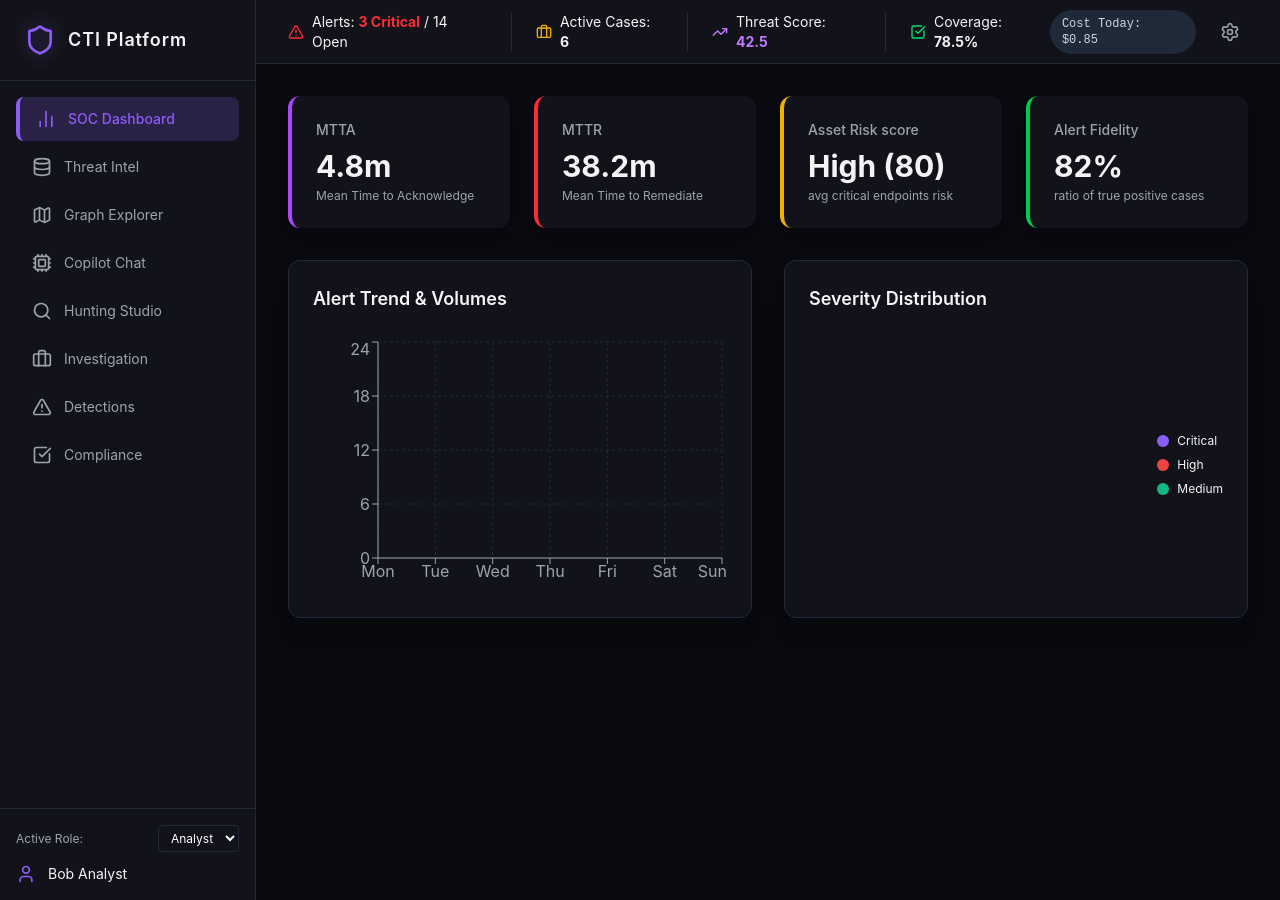
SOC Dashboard Layout & Routing › sends copilot chat query and updates dialogue log
This screenshot has width=1280, height=900.
Click the button "Copilot Chat".
click(128, 263)  # box [16, 241, 239, 285]
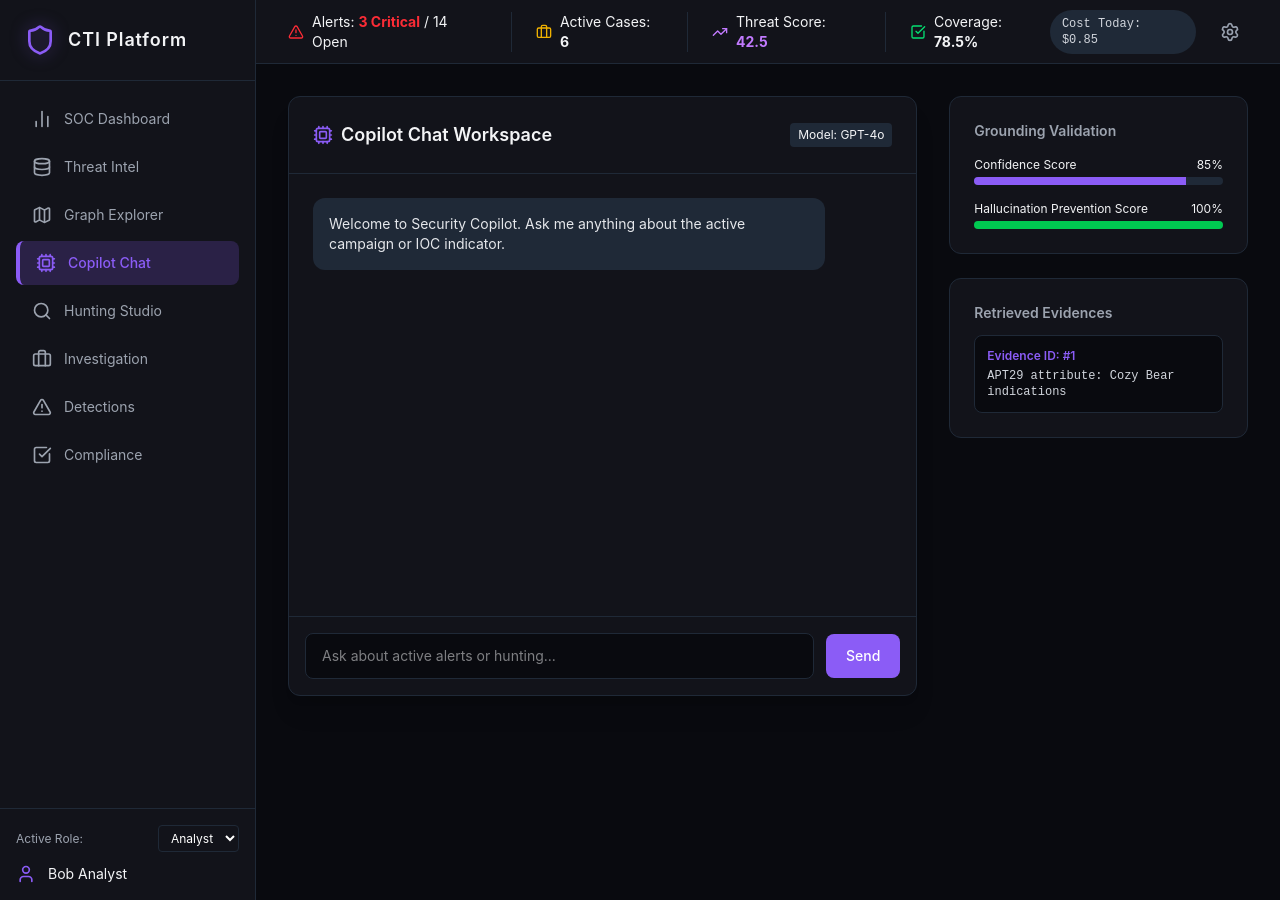
Type "Is Cozy Bear active?" into the field with placeholder "Ask about active alerts or hunting...".
click(560, 656); type("Is Cozy Bear active?")  # box [305, 633, 814, 679]
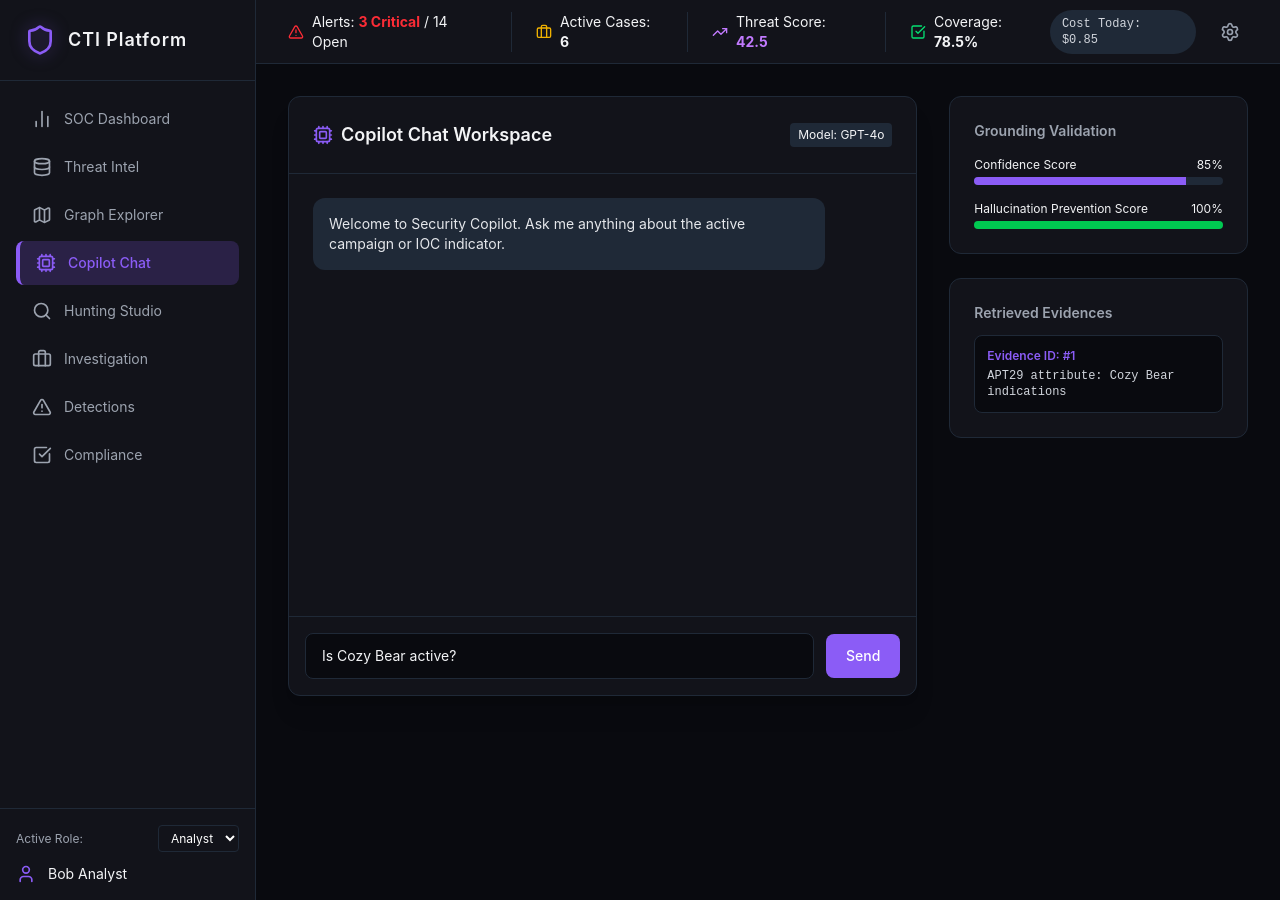
Click the button "Send".
click(863, 656)  # box [826, 634, 900, 678]
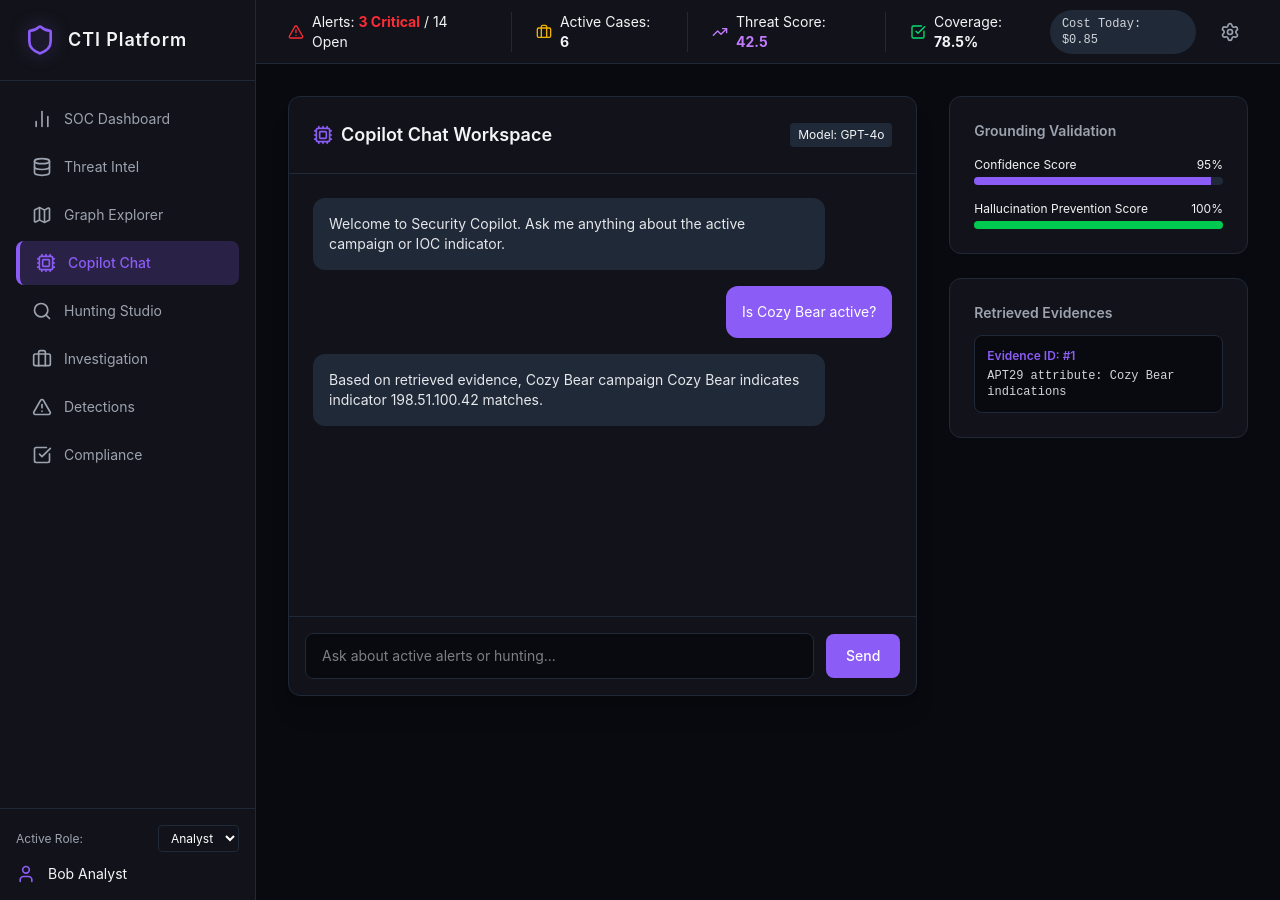
Expected: the text "Is Cozy Bear active?" is shown, [726, 286, 892, 338]
